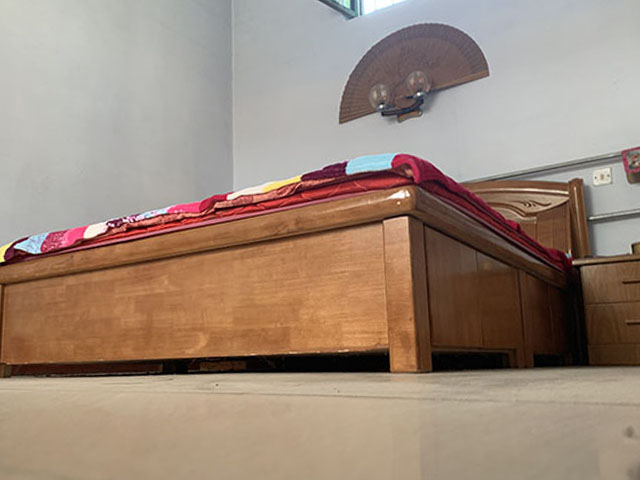bed: (1, 154, 584, 375)
cabinet: (571, 254, 640, 369)
